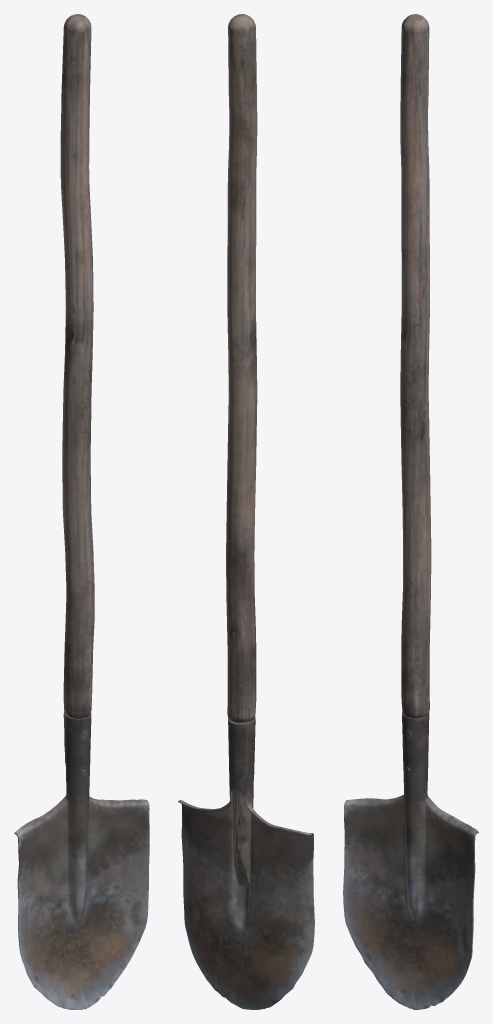
File: spade.glb
3 views of the same model, side by side, from view 1: azimuth 30°, elevation 25°; view 2: azimuth 150°, elevation 25°; view 3: azimuth 330°, elevation 25° (orthographic).
Visible parts, largest first — view 1: Shovel_low_Shovel_0; view 2: Shovel_low_Shovel_0; view 3: Shovel_low_Shovel_0.
Boxes of the visible parts, bbox=[...] form: Shovel_low_Shovel_0: bbox=[14, 14, 149, 1009]; Shovel_low_Shovel_0: bbox=[178, 14, 314, 1009]; Shovel_low_Shovel_0: bbox=[343, 14, 478, 1009].
Size of the model in its own units: 0.2027 by 1.45 by 0.0436.
1 material, 1 textured.
